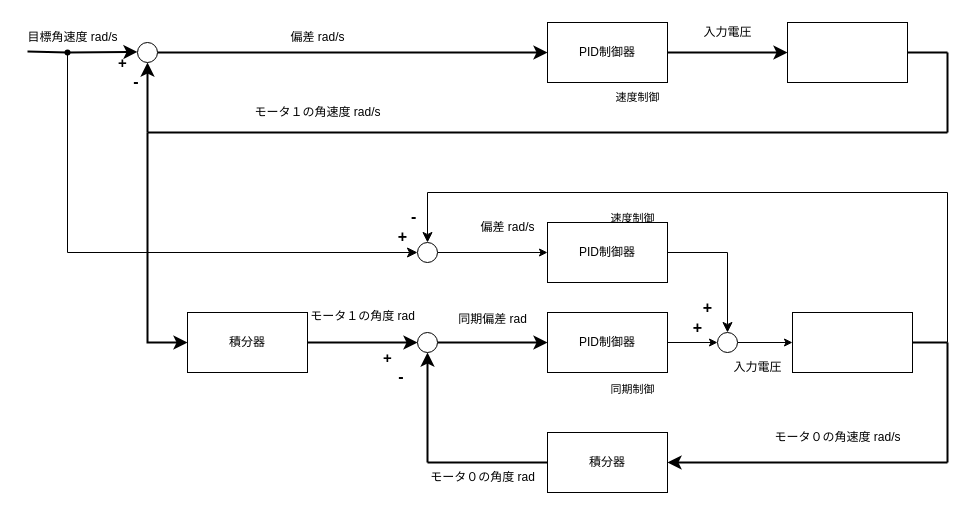
Image size: 975x510. Some labels were removed from this diagram. Each missing label, with the centre of its shape:
モータA: point 847,52
モータB: point 852,342
